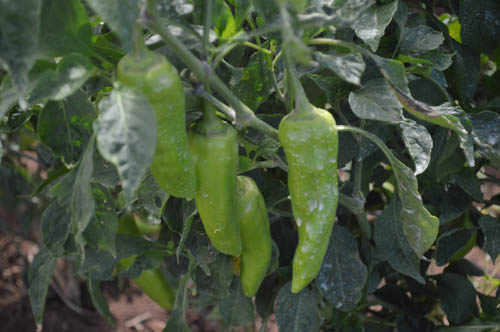ChiliPepper: (277, 120, 344, 293), (117, 57, 196, 197), (186, 129, 247, 260), (235, 175, 272, 302)
